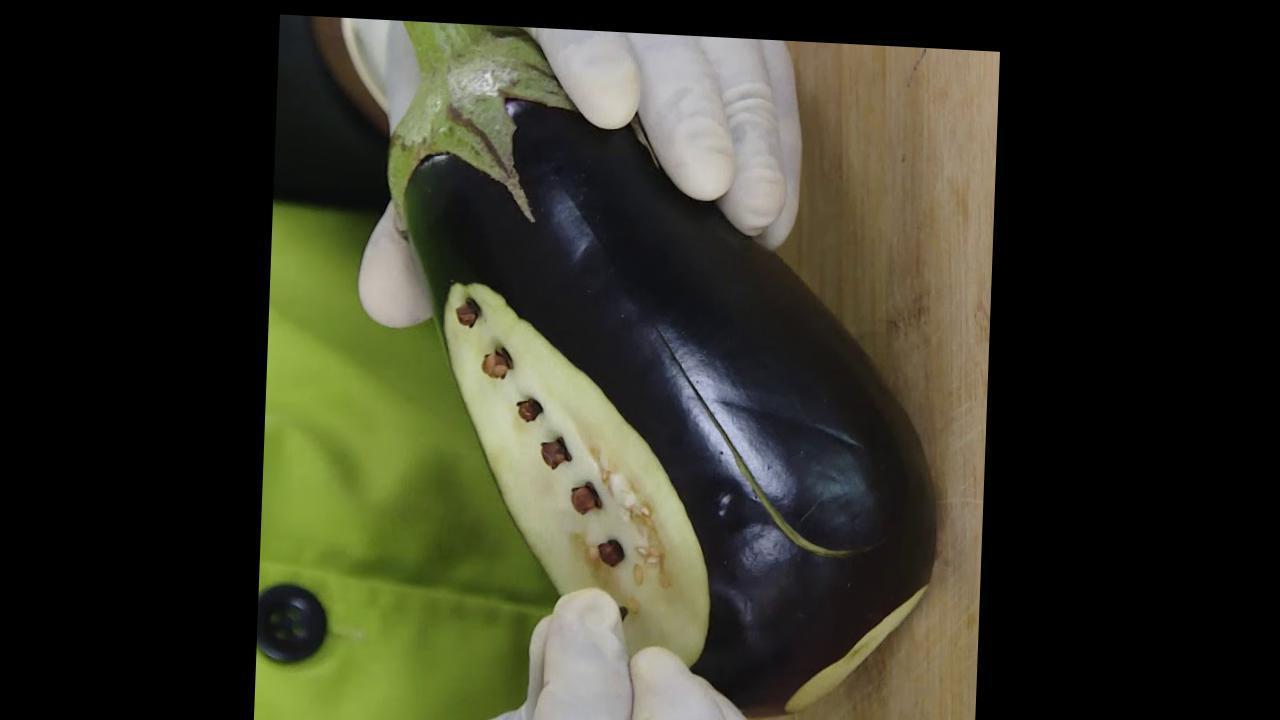eggplant: (438, 107, 902, 719)
